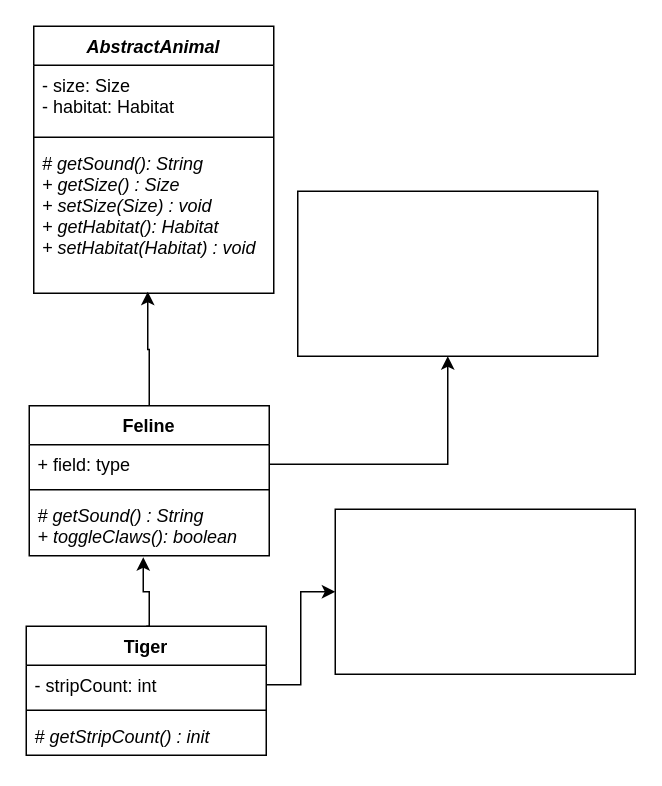
This 662x786 diagram has some shape labels left out. Each missing label, with the centre of its shape:
<<Interface>> Climber + clawsOut: Boolean + cliimb() : void: the point at 447,273
<<Interface>> Swimmer + canSwim(): Boolean + getSpeed(): int: the point at 484,591
